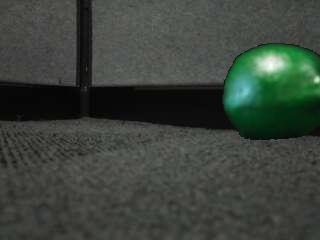Lime: (219, 42, 319, 144)
